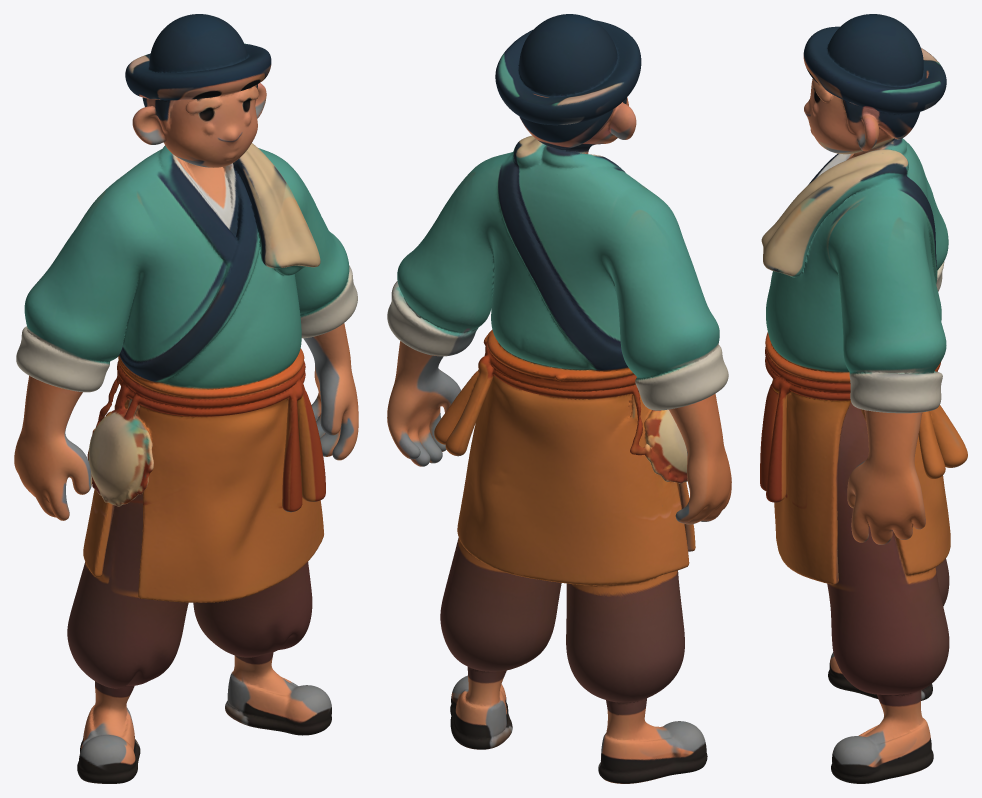
The model's file is peddler_A_h25.glb.
3 views of the same model, side by side, from view 1: azimuth 30°, elevation 25°; view 2: azimuth 150°, elevation 25°; view 3: azimuth 270°, elevation 25° (orthographic). The views are drawn at different scales.
Parts seen in each view (by area): view 1: tripo_node_0e5e0ba4-7cdd-42b8-86d3-d5200697dad0; view 2: tripo_node_0e5e0ba4-7cdd-42b8-86d3-d5200697dad0; view 3: tripo_node_0e5e0ba4-7cdd-42b8-86d3-d5200697dad0.
Part boxes in pixels (<box>): tripo_node_0e5e0ba4-7cdd-42b8-86d3-d5200697dad0: <box>14,14,358,783</box>; tripo_node_0e5e0ba4-7cdd-42b8-86d3-d5200697dad0: <box>387,14,731,783</box>; tripo_node_0e5e0ba4-7cdd-42b8-86d3-d5200697dad0: <box>760,14,967,783</box>.
Size of the model in its own units: 0.4738 by 1 by 0.2652.
1 material, 1 textured.
